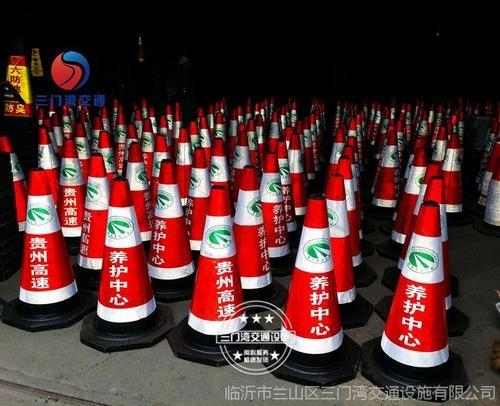cone_barrel: (371, 203, 469, 380), (276, 191, 350, 371), (79, 178, 160, 332), (180, 185, 249, 344), (16, 166, 79, 316), (144, 157, 196, 290), (232, 164, 275, 298), (323, 169, 360, 313), (72, 155, 109, 279), (259, 151, 291, 273), (54, 135, 85, 240), (367, 125, 401, 214), (123, 134, 151, 234), (184, 148, 208, 251), (439, 128, 464, 219), (33, 124, 59, 210), (285, 133, 306, 219), (478, 155, 499, 232), (174, 126, 192, 200), (432, 118, 446, 161), (139, 117, 152, 158), (196, 110, 208, 149), (212, 108, 225, 137)
